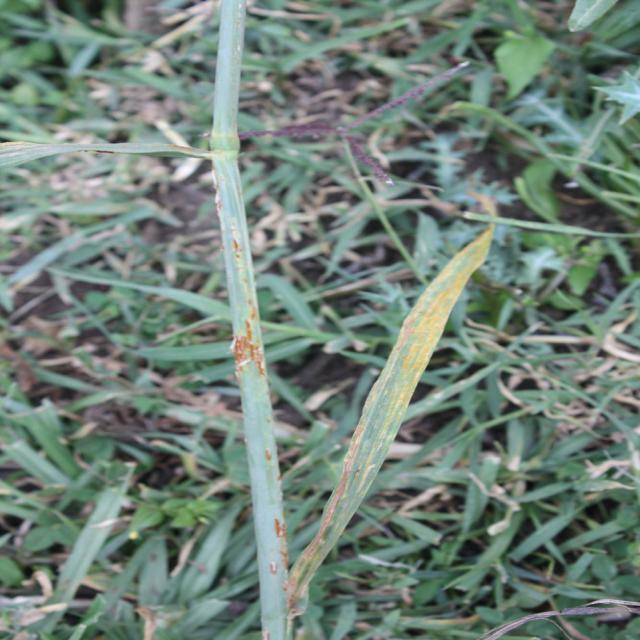wheat-stemrust: (289, 224, 496, 629), (209, 0, 301, 640)
